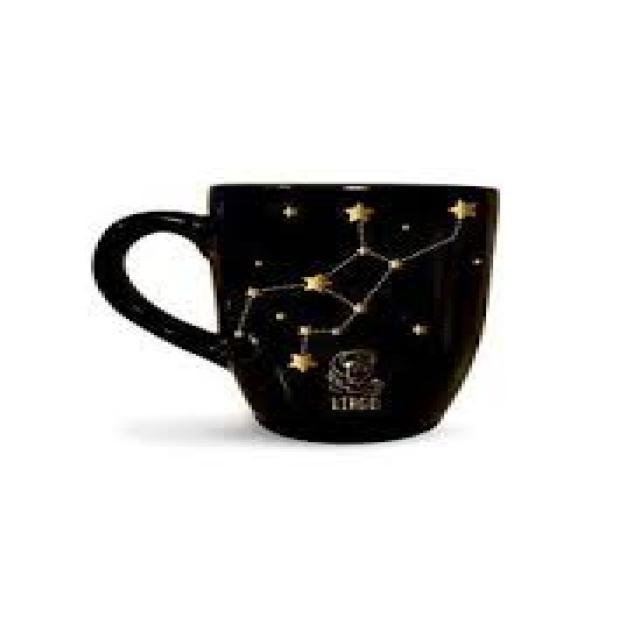taza: (88, 180, 500, 445)
